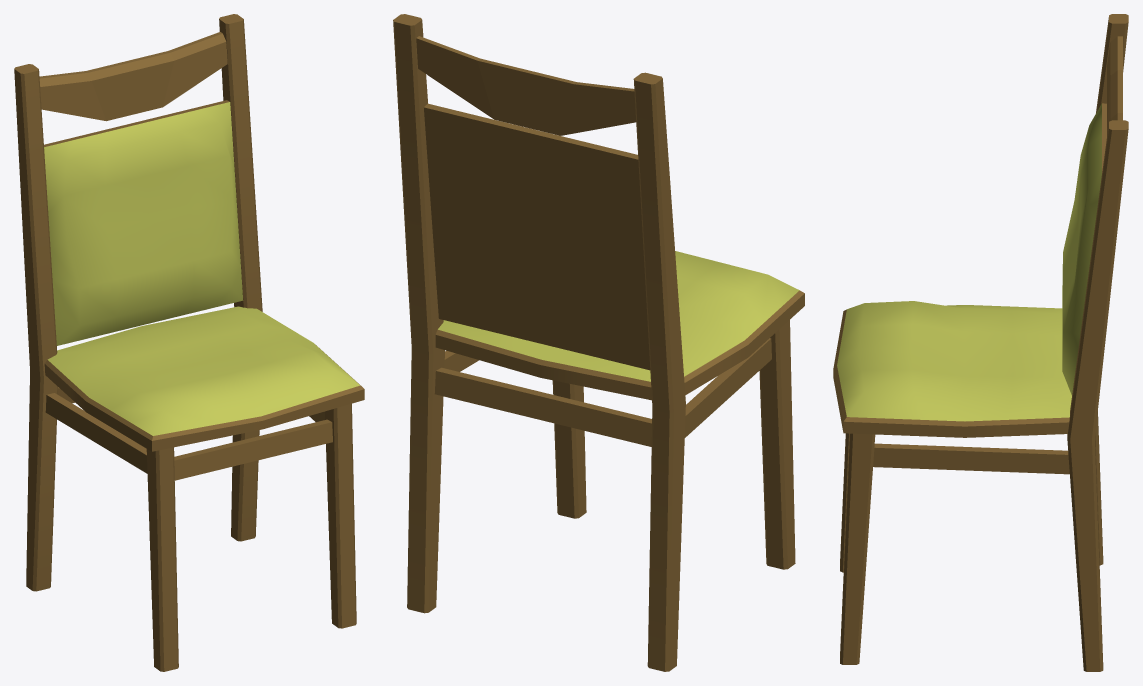
Rendered from Chair_Model.fbx.
The picture shows the model from 3 angles, left to right: view 1: azimuth 30°, elevation 25°; view 2: azimuth 150°, elevation 25°; view 3: azimuth 270°, elevation 25°; orthographic projection. The views are drawn at different scales.
Visible parts, largest first — view 1: Chair; view 2: Chair; view 3: Chair.
Boxes of the visible parts, <box> form: Chair: <box>14,14,364,671</box>; Chair: <box>393,14,804,671</box>; Chair: <box>833,14,1128,671</box>.
Bounding box in the file's own units: 48.11 × 101 × 50.11.
